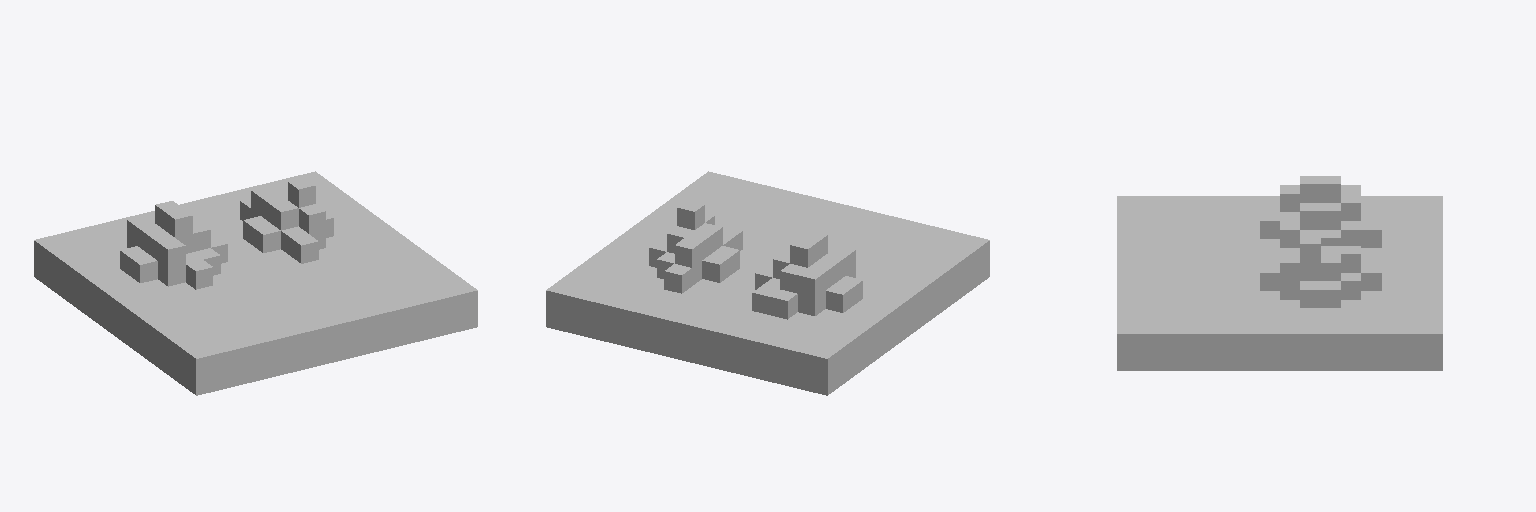
Rendered from Portal.obj.
3 views of the same model, side by side, from view 1: azimuth 30°, elevation 25°; view 2: azimuth 150°, elevation 25°; view 3: azimuth 270°, elevation 25° (orthographic).
Visible parts, largest first — view 1: object 1; view 2: object 1; view 3: object 1.
Part boxes in pixels (bbox=[...]): object 1: bbox=[34, 171, 477, 395]; object 1: bbox=[546, 171, 989, 395]; object 1: bbox=[1117, 176, 1442, 370].
Size of the model in its own units: 1.6 by 0.5 by 1.6.